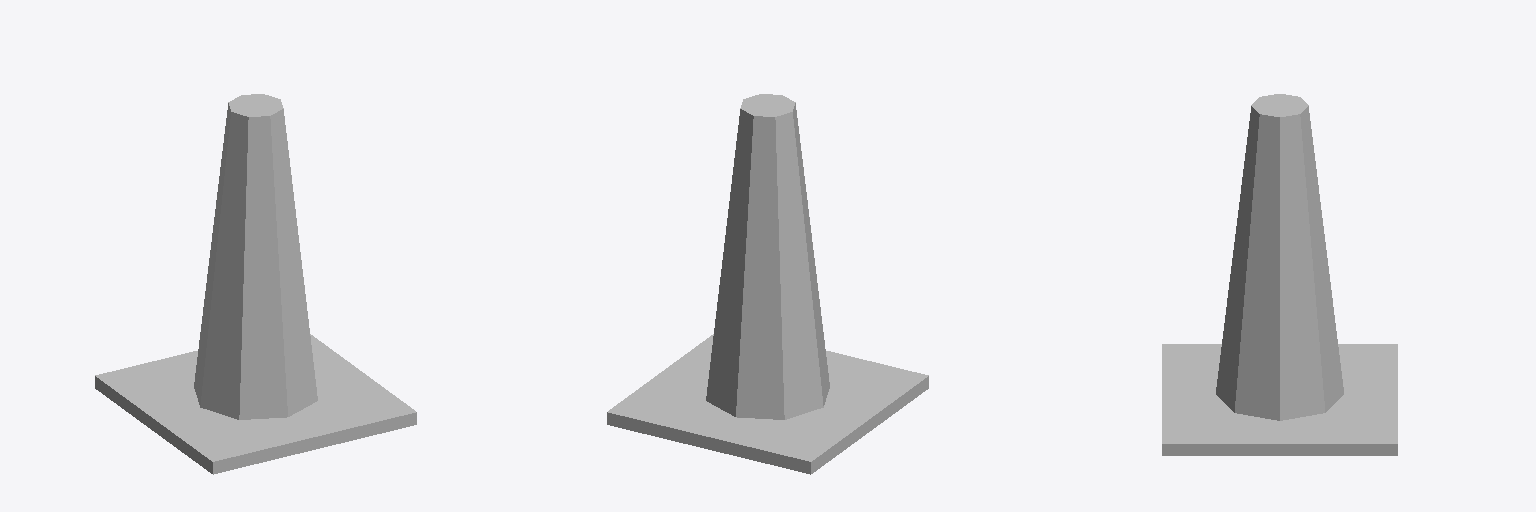
File: lwpltrfccon4.obj
3 views of the same model, side by side, from view 1: azimuth 30°, elevation 25°; view 2: azimuth 150°, elevation 25°; view 3: azimuth 270°, elevation 25° (orthographic).
Parts seen in each view (by area): view 1: Cube.011_Cube.005; view 2: Cube.011_Cube.005; view 3: Cube.011_Cube.005.
Part boxes in pixels (x1,y1,x2,y2): Cube.011_Cube.005: (95,94,416,474); Cube.011_Cube.005: (607,94,928,474); Cube.011_Cube.005: (1162,94,1397,455).
Bounding box in the file's own units: 1.9 × 2.67 × 1.9.